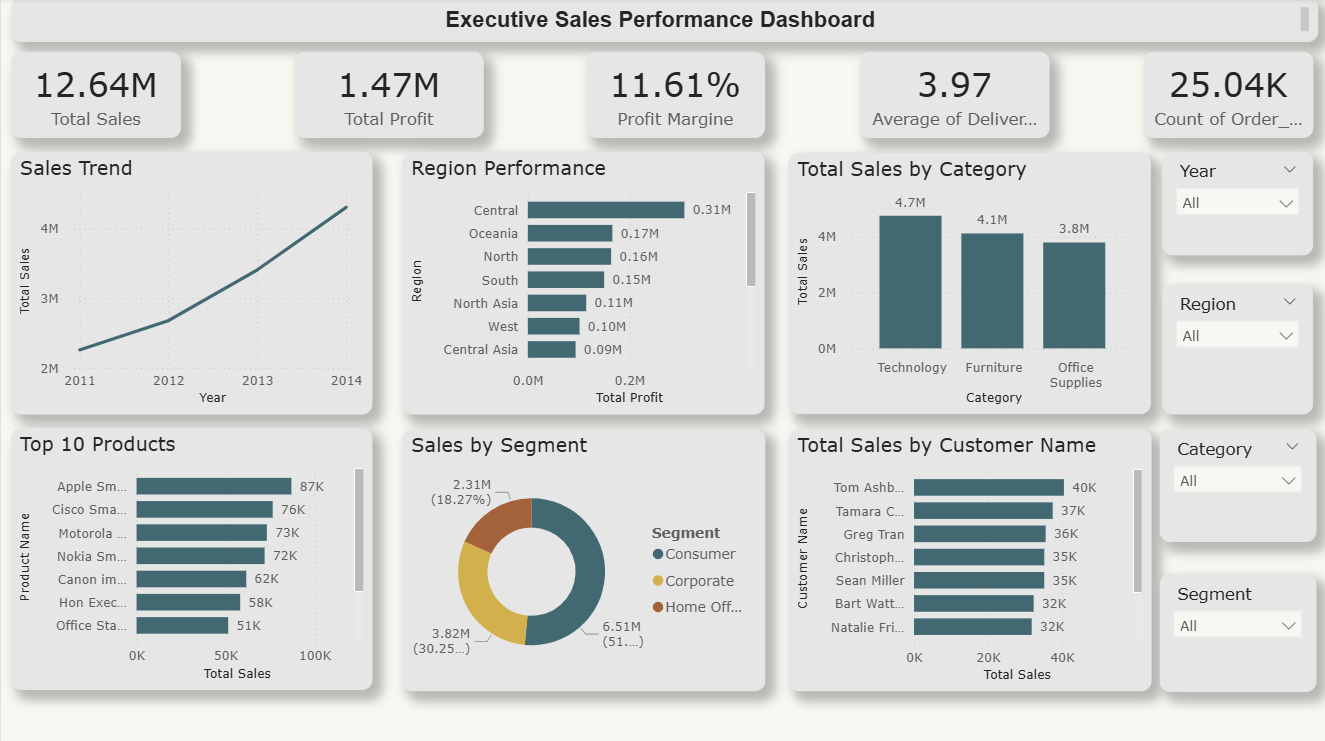

The page's visual inventory and layout, read from the dashboard file:
{"tool":"powerbi","page":{"name":"Final Executive Sales Performance Dashboard","canvas":[1280,720],"ordinal":5},"visuals":[{"type":"textbox","box":[9.7,0,1261.9,42.2],"z":0},{"type":"card","fields":{"Values":["superstore orders.Total Sales"]},"box":[9.7,51.9,164.1,83.2],"z":1000},{"type":"card","fields":{"Values":["superstore orders.Total Profit"]},"box":[283.5,51.9,182.2,83.2],"z":2000},{"type":"card","fields":{"Values":["superstore orders.Profit Margine"]},"box":[564.6,51.9,172.5,83.2],"z":3000},{"type":"card","fields":{"Values":["superstore orders.Delivery_Day"]},"box":[828.8,51.9,183.4,83.2],"z":4000},{"type":"card","fields":{"Values":["superstore orders.Order_ID"]},"box":[1102.7,51.9,164.1,83.2],"z":5000},{"type":"lineChart","title":"Sales Trend","fields":{"Category":["superstore orders.Order_Date.Variation.Date Hierarchy.Year","superstore orders.Order_Date.Variation.Date Hierarchy.Quarter","superstore orders.Order_Date.Variation.Date Hierarchy.Month","superstore orders.Order_Date.Variation.Date Hierarchy.Day"],"Y":["superstore orders.Total Sales"]},"box":[9.7,148.4,348.7,253.4],"z":6000},{"type":"clusteredBarChart","title":"Region Performance","fields":{"Category":["superstore customers.Region"],"Y":["superstore orders.Total Profit"]},"box":[387.3,148.4,349.9,253.4],"z":7000},{"type":"columnChart","fields":{"Category":["superstore products.Category"],"Y":["superstore orders.Total Sales"]},"box":[760.1,149.6,349.9,252.1],"z":8000},{"type":"barChart","title":"Top 10 Products","fields":{"Category":["superstore products.Product_Name"],"Y":["superstore orders.Total Sales"]},"box":[10,415.5,349,253],"z":9000},{"type":"donutChart","title":"Sales by Segment","fields":{"Y":["superstore orders.Sales"],"Category":["superstore customers.Segment"]},"box":[387,416,350,253],"z":10000},{"type":"barChart","title":"Total Sales by Customer Name","fields":{"Category":["superstore customers.Customer_Name"],"Y":["superstore orders.Total Sales"]},"box":[760,416,350,253],"z":11000},{"type":"slicer","fields":{"Values":["superstore orders.Order_Date.Variation.Date Hierarchy.Year"]},"box":[1120.8,148.4,146,100.1],"z":12000},{"type":"slicer","fields":{"Values":["superstore customers.Region"]},"box":[1120.8,276.3,146,125.5],"z":13000},{"type":"slicer","fields":{"Values":["superstore products.Category"]},"box":[1118.4,416.2,150.8,108.6],"z":14000},{"type":"slicer","fields":{"Values":["superstore customers.Segment"]},"box":[1118.4,556.2,150.8,113.4],"z":15000}]}

Visuals, with their boxes in screenshot pixels (x1, y1, x2, y2), scaled from the page's 1280x720 canvas onto the 1325x741 screenshot:
textbox: x1=10 y1=0 x2=1316 y2=43
card - superstore orders.Total Sales: x1=10 y1=53 x2=180 y2=139
card - superstore orders.Total Profit: x1=293 y1=53 x2=482 y2=139
card - superstore orders.Profit Margine: x1=584 y1=53 x2=763 y2=139
card - superstore orders.Delivery_Day: x1=858 y1=53 x2=1048 y2=139
card - superstore orders.Order_ID: x1=1141 y1=53 x2=1311 y2=139
"Sales Trend" lineChart: x1=10 y1=153 x2=371 y2=414
"Region Performance" clusteredBarChart: x1=401 y1=153 x2=763 y2=414
columnChart - superstore products.Category x superstore orders.Total Sales: x1=787 y1=154 x2=1149 y2=413
"Top 10 Products" barChart: x1=10 y1=428 x2=372 y2=688
"Sales by Segment" donutChart: x1=401 y1=428 x2=763 y2=689
"Total Sales by Customer Name" barChart: x1=787 y1=428 x2=1149 y2=689
slicer - superstore orders.Order_Date.Variation.Date Hierarchy.Year: x1=1160 y1=153 x2=1311 y2=256
slicer - superstore customers.Region: x1=1160 y1=284 x2=1311 y2=414
slicer - superstore products.Category: x1=1158 y1=428 x2=1314 y2=540
slicer - superstore customers.Segment: x1=1158 y1=572 x2=1314 y2=689
